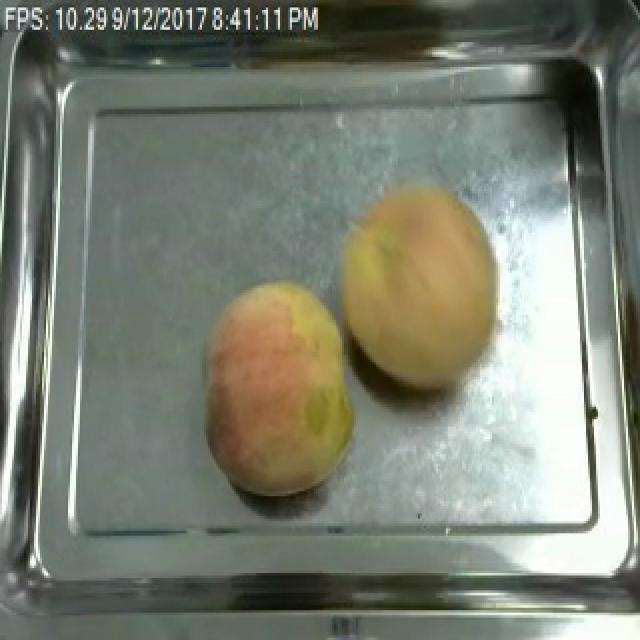Fruit: (328, 169, 512, 399), (198, 273, 366, 501)
